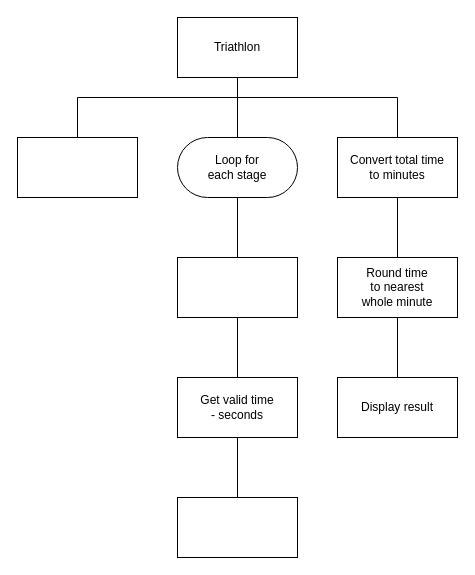
The diagram is 475 pixels wide and 575 high, and some of its shapes have lost their labels. Here are the shapes that lost their labels. From the top down, the box of each, then its label:
(16, 136, 138, 198): Initialise variables and array
(176, 256, 298, 318): Get valid time - minutes
(176, 496, 298, 558): Update total time in seconds
